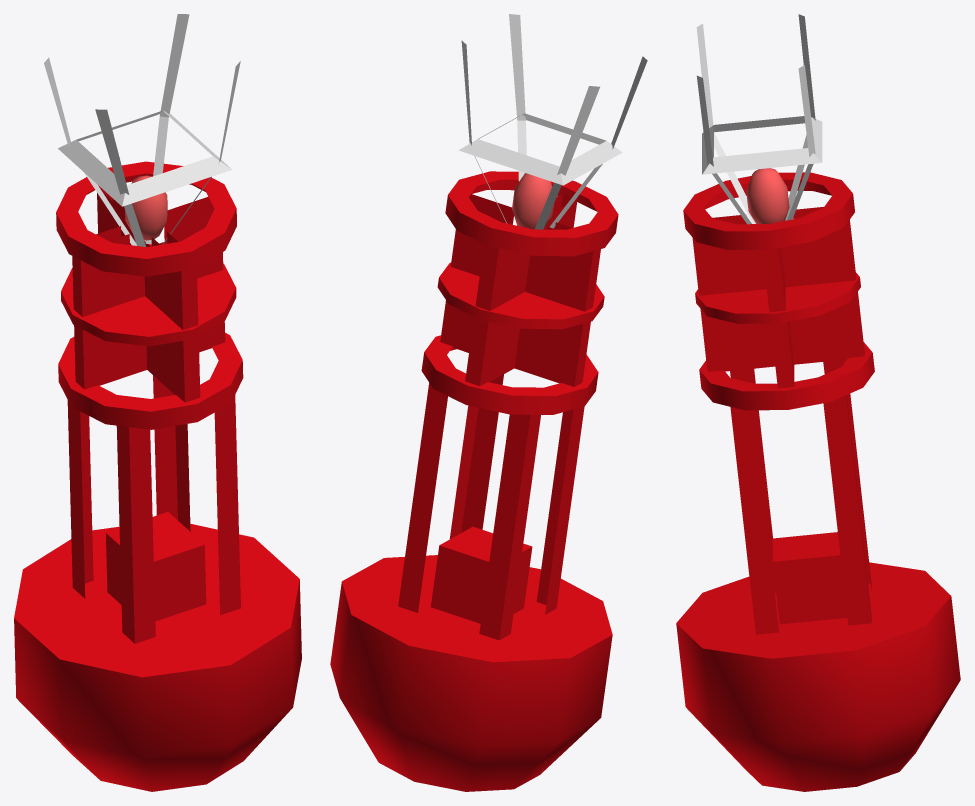
The model's file is Buoy.fbx.
3 renders of one model, left to right at view 1: azimuth 30°, elevation 25°; view 2: azimuth 150°, elevation 25°; view 3: azimuth 270°, elevation 25°, orthographic. The views are drawn at different scales.
Parts seen in each view (by area): view 1: Buoy, Light; view 2: Buoy, Light; view 3: Buoy, Light.
Boxes of the visible parts, x1,y1,x2,y2 form: Buoy: (14, 14, 301, 791); Light: (125, 175, 167, 240); Buoy: (330, 14, 647, 791); Light: (512, 173, 553, 229); Buoy: (676, 14, 960, 791); Light: (746, 168, 789, 223).
Size of the model in its own units: 13.06 by 38.41 by 13.69.
